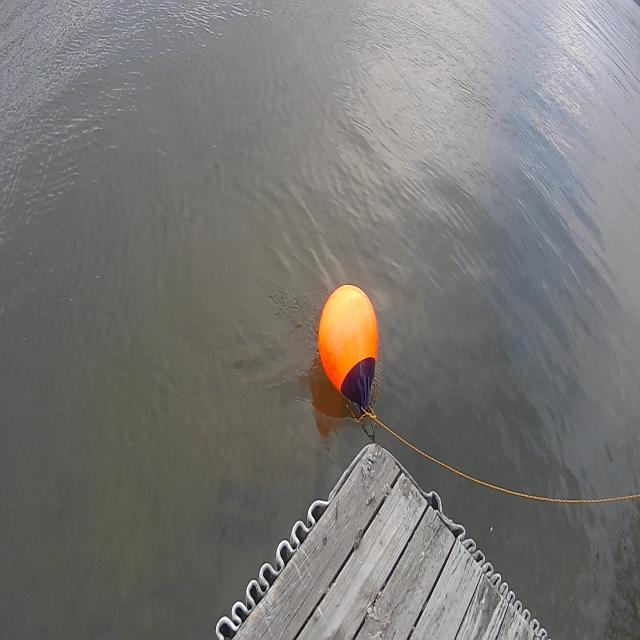Buoy: (315, 276, 382, 418)
